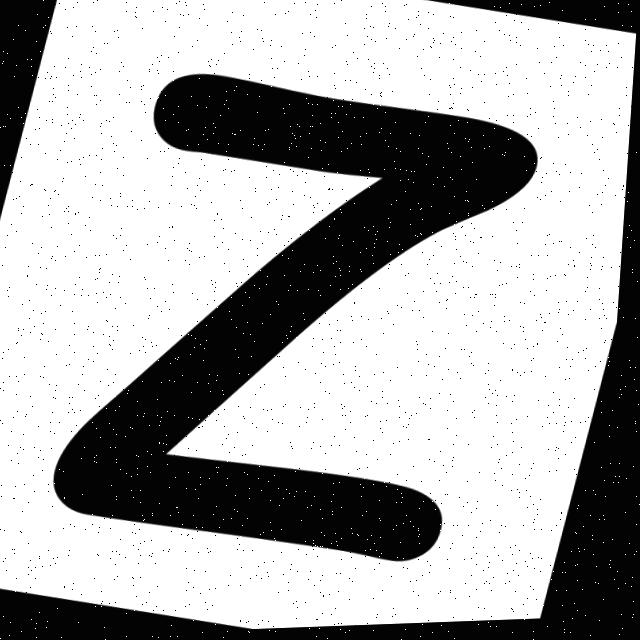Z: (61, 76, 540, 564)
